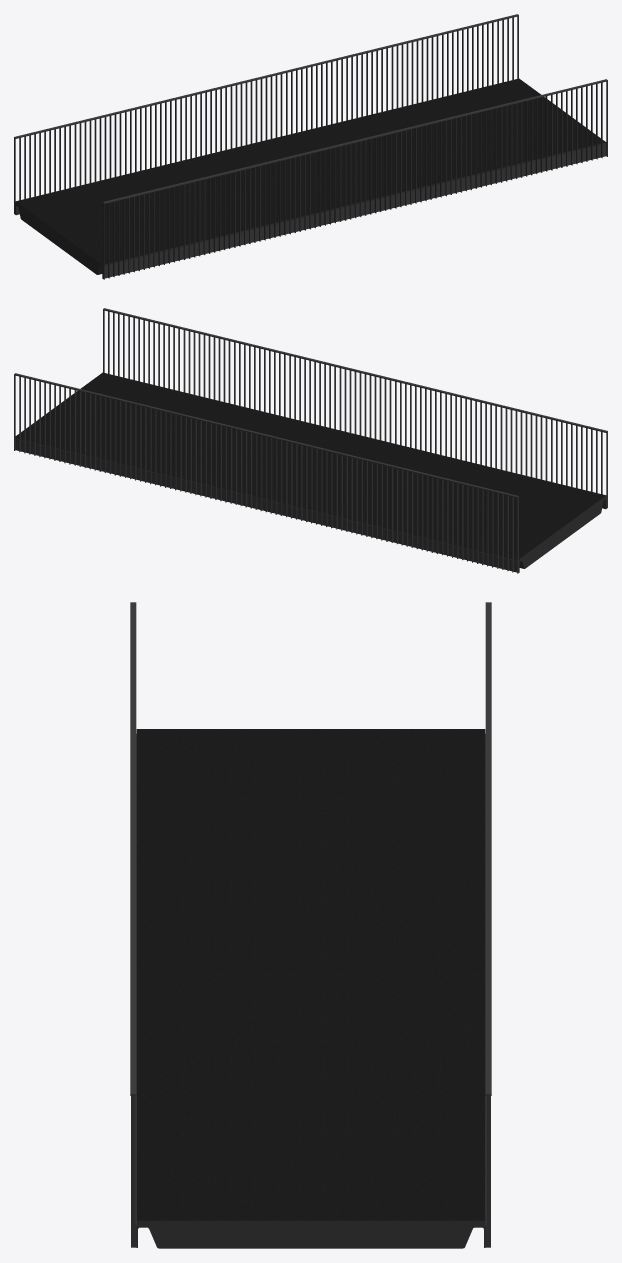
The model's file is Composite_Arel.glb.
The picture shows the model from 3 angles, top to bottom: view 1: azimuth 30°, elevation 25°; view 2: azimuth 150°, elevation 25°; view 3: azimuth 270°, elevation 25°; orthographic projection. The views are drawn at different scales.
Size of the model in its own units: 10 by 1.47 by 3.11.
3 materials, 1 textured.
